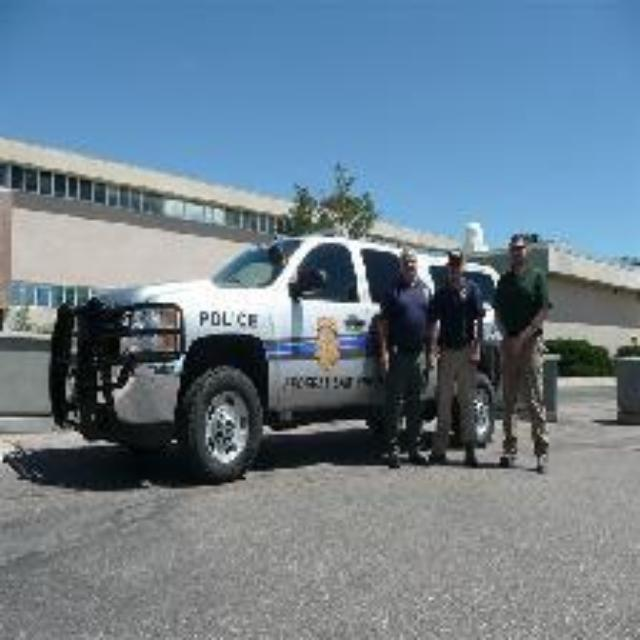emergency: (47, 227, 523, 481)
